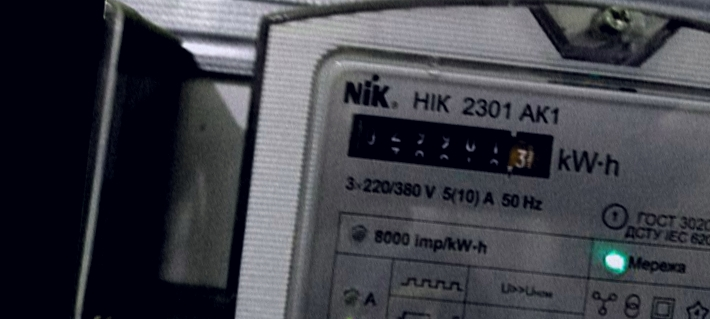0: (460, 128, 477, 155), (360, 124, 378, 147)
1: (485, 132, 501, 156)
2: (385, 124, 403, 144)
3: (511, 146, 526, 169)
9: (436, 128, 452, 151), (411, 125, 425, 148)
screen: (331, 101, 564, 190)
